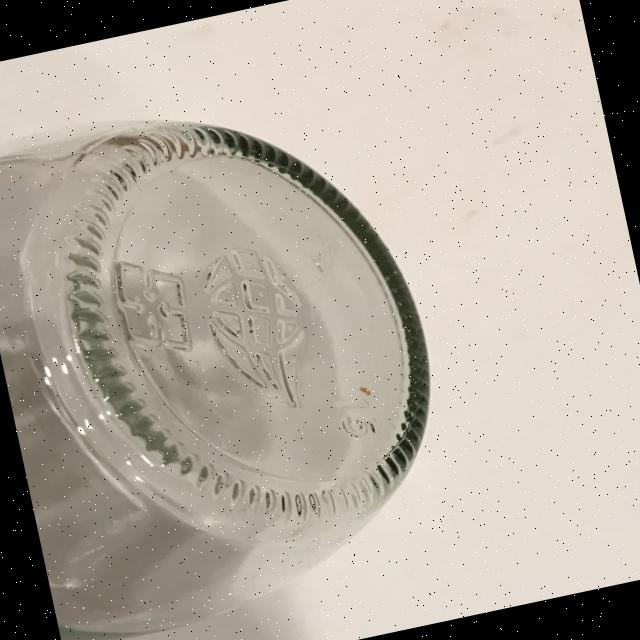glass: (0, 61, 474, 640)
